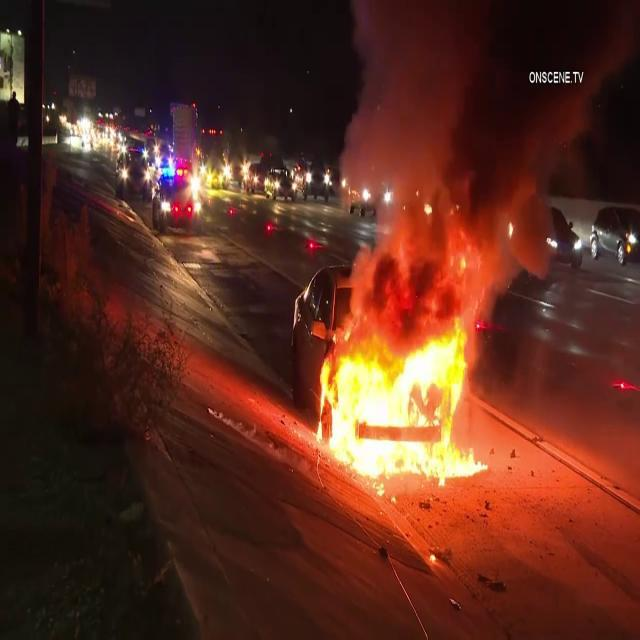Fire: (313, 326, 489, 494)
Smoke: (337, 0, 628, 316)
